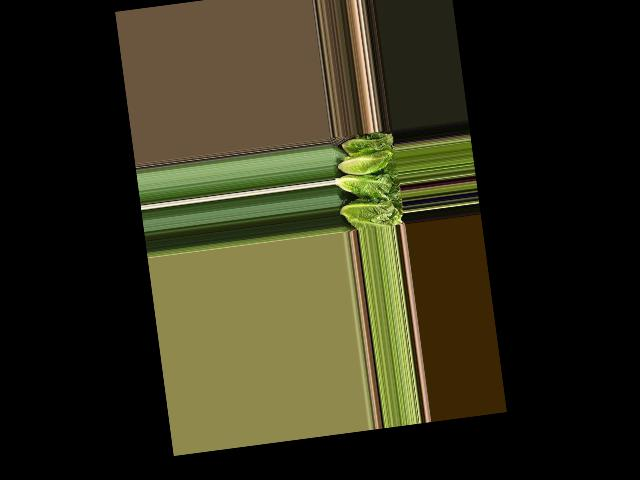lettuce: (342, 133, 394, 155)
